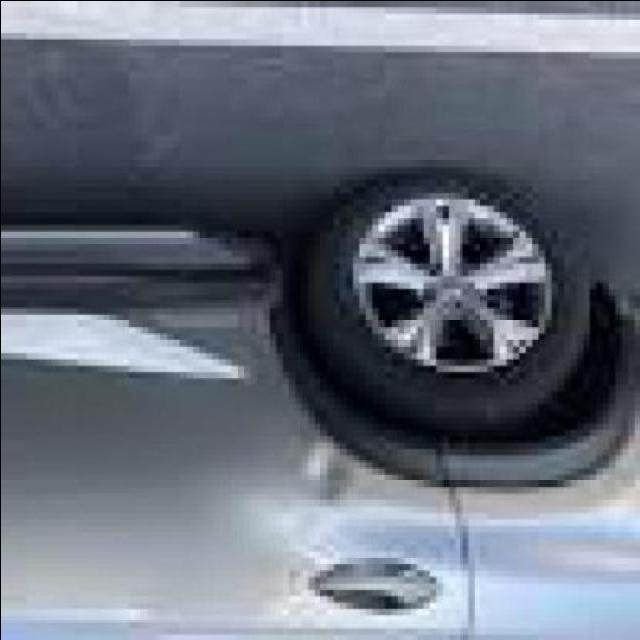doorouter-dent: (287, 430, 364, 513)
